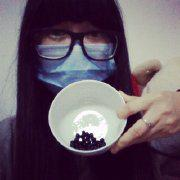OK: (38, 17, 115, 97)
